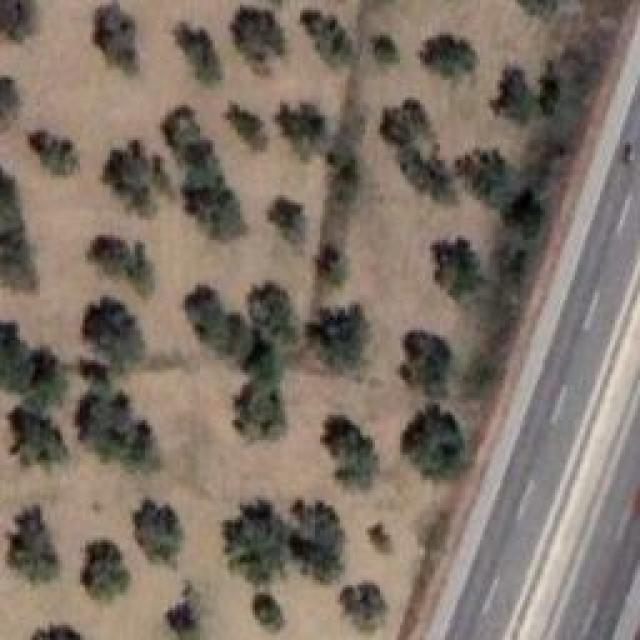Tree: (75, 388, 158, 478), (453, 140, 517, 218), (225, 510, 290, 586), (430, 225, 494, 300), (108, 148, 175, 218), (317, 413, 382, 482), (290, 503, 351, 576), (130, 493, 188, 568), (85, 233, 156, 294), (3, 410, 76, 469), (8, 518, 63, 596), (313, 305, 374, 375), (396, 133, 454, 205), (404, 413, 466, 479), (390, 328, 453, 392), (300, 5, 365, 67), (85, 303, 145, 370), (333, 575, 392, 635), (90, 0, 137, 70), (83, 533, 134, 596), (230, 388, 286, 443), (233, 2, 282, 64), (490, 65, 536, 126), (25, 125, 80, 175), (190, 187, 242, 235), (180, 17, 220, 79), (417, 30, 477, 70), (158, 102, 200, 159), (0, 324, 37, 386), (203, 310, 249, 358), (0, 235, 38, 292), (500, 190, 546, 236), (225, 100, 268, 149), (280, 100, 322, 149), (252, 282, 298, 325), (240, 345, 285, 388), (270, 192, 307, 242), (380, 98, 423, 141), (187, 152, 227, 194), (178, 287, 218, 327), (250, 593, 286, 637), (163, 600, 203, 639), (0, 170, 26, 229), (0, 0, 40, 36), (315, 245, 350, 285), (364, 520, 398, 559), (0, 78, 20, 134), (370, 30, 398, 67), (33, 620, 79, 640)
